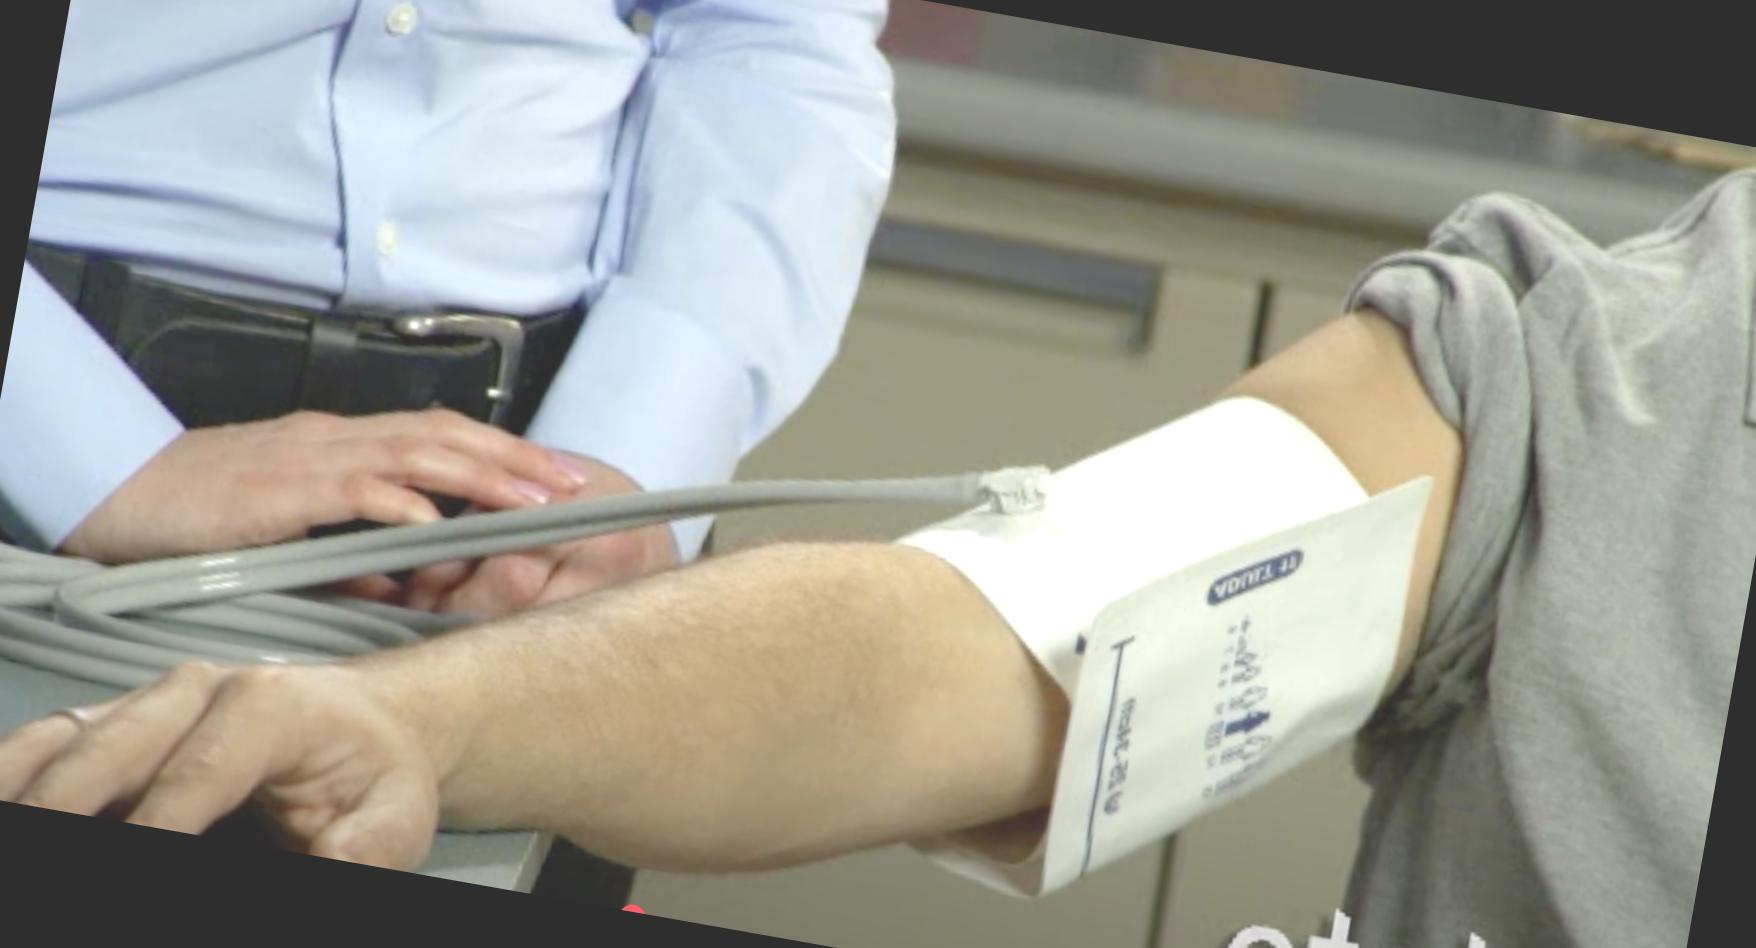cuff: (844, 339, 1441, 948)
